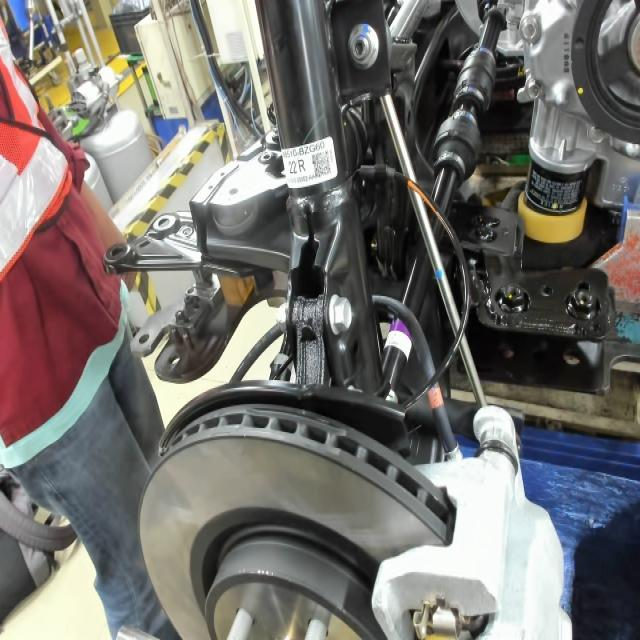Absorber RH-22: (283, 144, 332, 189)
Disc-HT: (181, 496, 378, 640)
Drive Shaft-UG: (385, 317, 418, 363)
